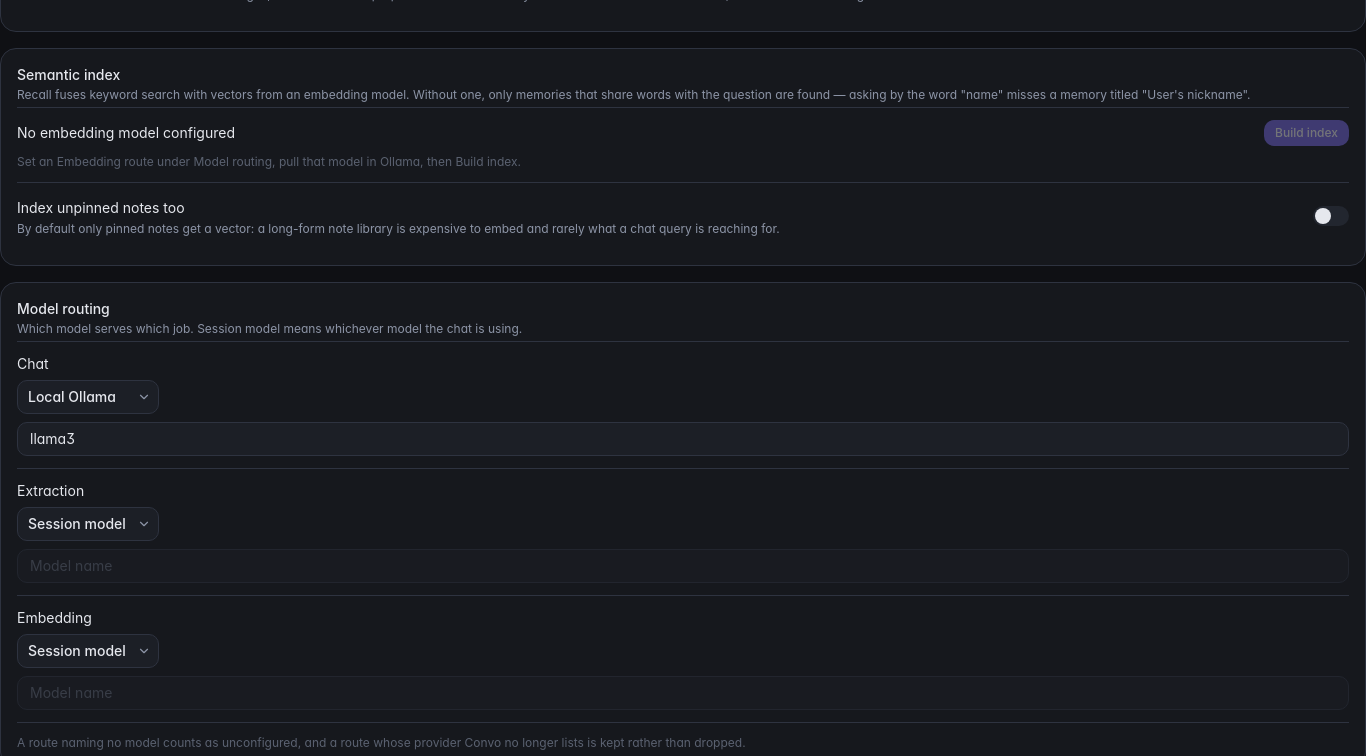
Test: KnowledgeSection — the routing row round-trips › says the stored route is untouched while a provider has no model yet
(page scrolled)
Expected: the field named "Chat model name" holds "llama3", x1=17 y1=422 x2=1349 y2=456
Expected: the text "keeps the stored route" is not shown
Select "OpenRouter" in the dropdown named "Embedding model provider". click: (88, 651)
box: x1=17 y1=634 x2=159 y2=668
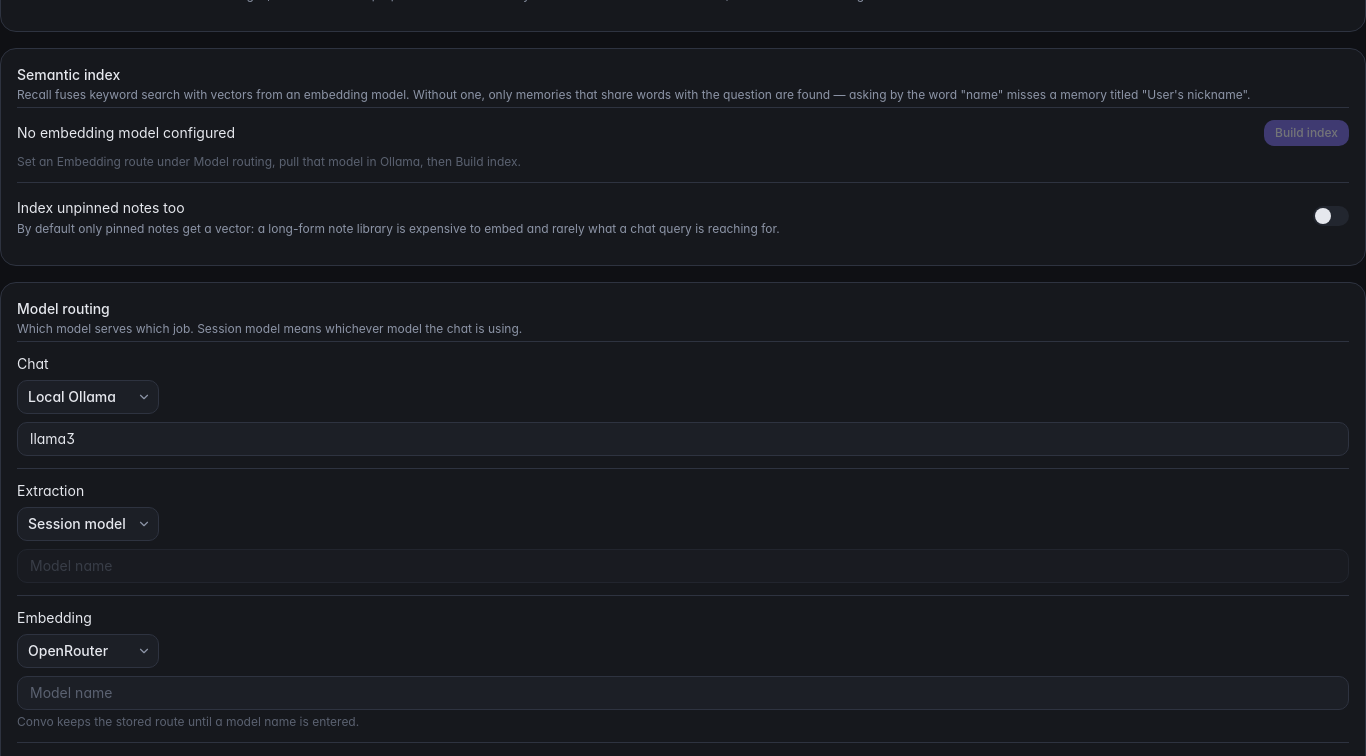
Expected: the text "Convo keeps the stored route until a model name is entered." is shown, x1=17 y1=714 x2=359 y2=729
